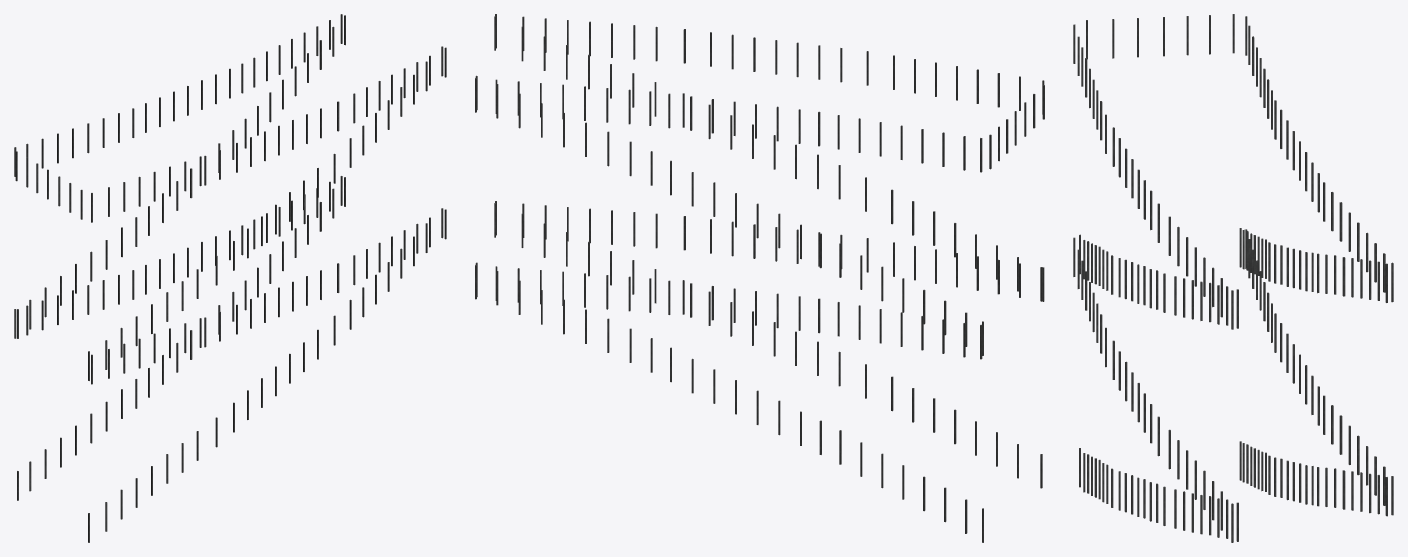
The model's file is Railing_supports.glb.
The picture shows the model from 3 angles, left to right: view 1: azimuth 30°, elevation 25°; view 2: azimuth 150°, elevation 25°; view 3: azimuth 270°, elevation 25°; orthographic projection. The views are drawn at different scales.
Visible parts, largest first — view 1: Railing supports; view 2: Railing supports; view 3: Railing supports.
Part boxes in pixels (x1,y1,x2,y2): Railing supports: [14, 14, 446, 542]; Railing supports: [475, 14, 1044, 542]; Railing supports: [1073, 14, 1393, 542].
Size of the model in its own units: 22.53 by 17.61 by 11.03.
Materials: 1 (1 with a texture image).
